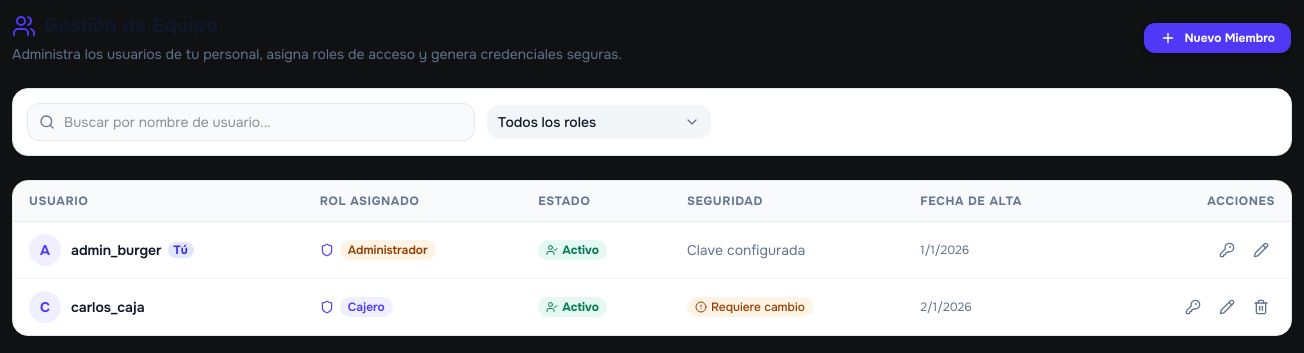
Test case: TeamManager Component (TDD) › filters users by username search input
Expected: the text "carlos_caja" is shown, [71, 297, 145, 317]
Type "carlos" into the field with placeholder "Buscar por nombre de usuario...".
click(251, 122); type("carlos")  # box [27, 103, 475, 141]
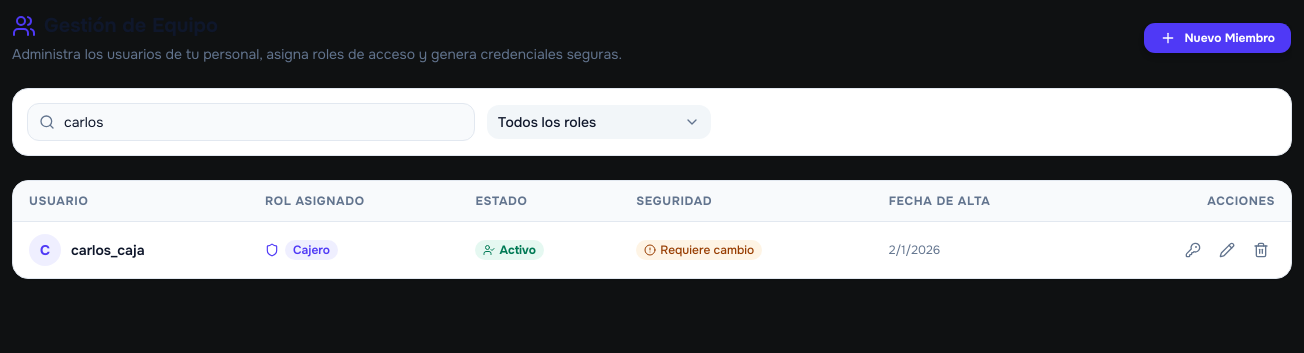
Expected: the text "carlos_caja" is shown, [71, 240, 145, 260]
Expected: the text "admin_burger" is gone
